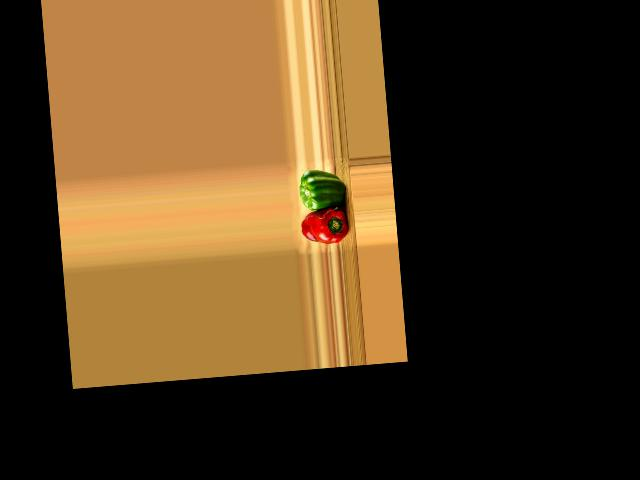bell_pepper: (299, 205, 349, 246)
